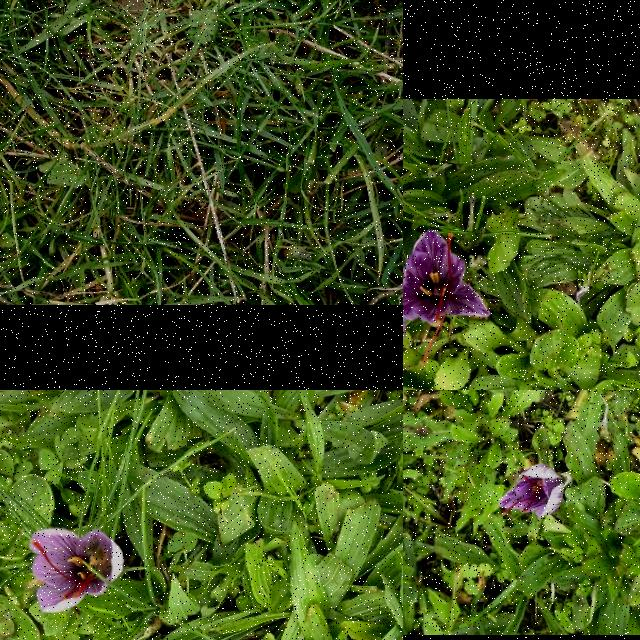flower: (403, 229, 491, 364), (30, 528, 124, 614), (498, 464, 566, 518)
